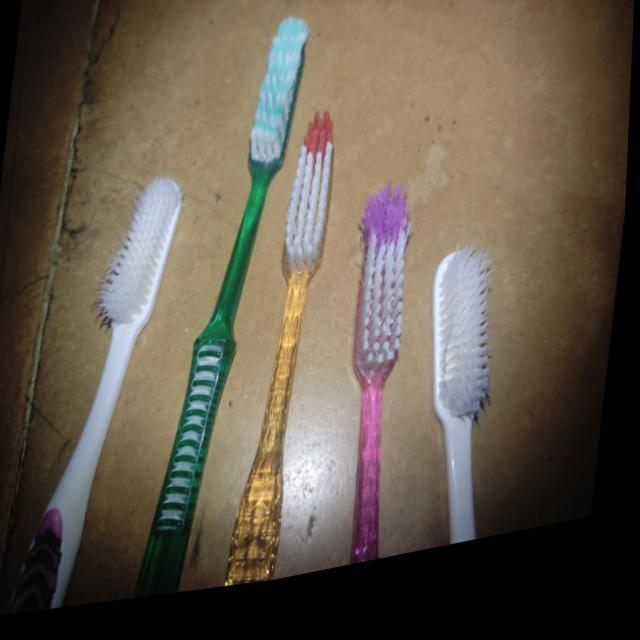toothbrush: (114, 11, 323, 606), (3, 176, 205, 616), (212, 110, 344, 598), (338, 190, 422, 583), (420, 226, 514, 567)
